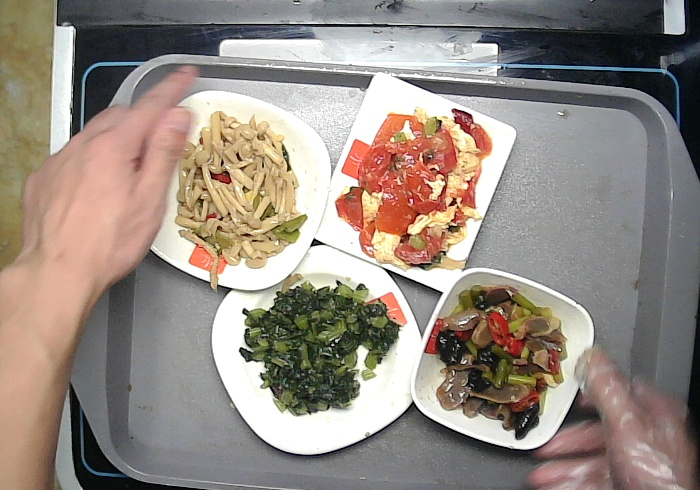SHKJ-Bai_Se_Cai_Die: (138, 86, 334, 294)
SHKJ-Bai_Se_Si_Fang_Cai_Die: (207, 243, 424, 461)
SHKJ-Bai_Se_Xiao_Fang_Die: (404, 266, 593, 454)
SHKJ-Si_Fang_Min: (314, 69, 520, 300)
